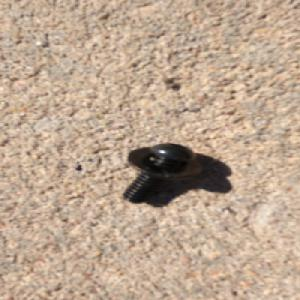BoltWasher: (120, 141, 207, 205)
